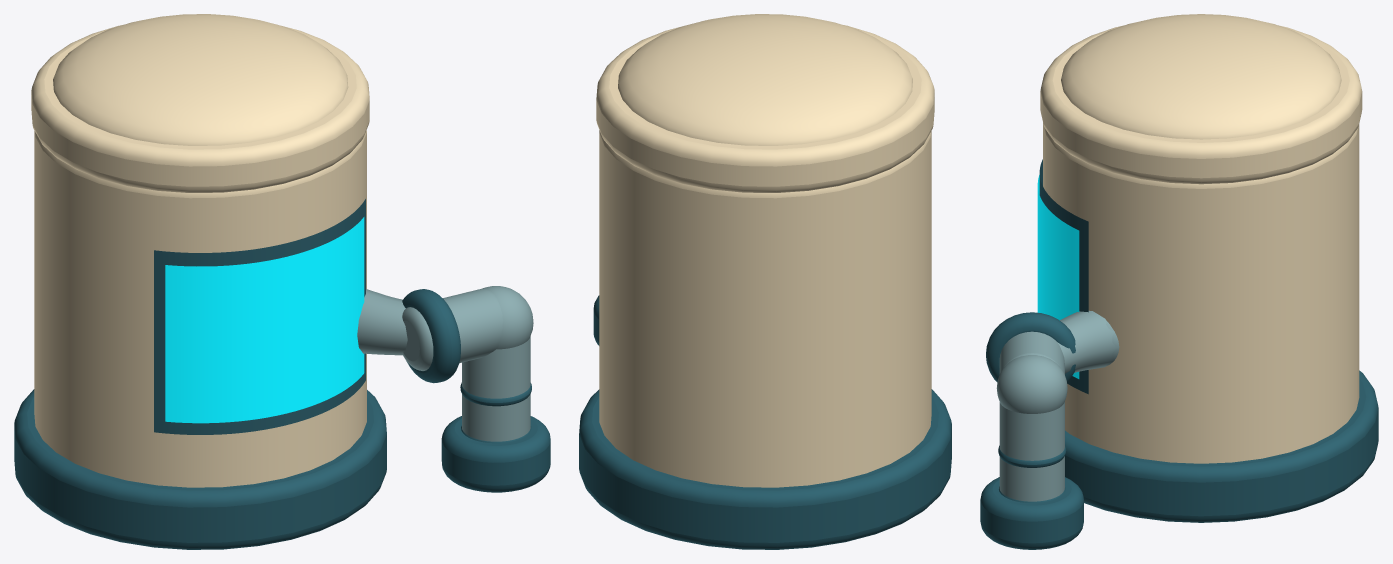
Rendered from refinery.glb.
The picture shows the model from 3 angles, left to right: view 1: azimuth 30°, elevation 25°; view 2: azimuth 150°, elevation 25°; view 3: azimuth 270°, elevation 25°; orthographic projection. The views are drawn at different scales.
Visible parts, largest first — view 1: Refinery tank, Window turquoise glass, Rounded refinery crown, Refinery base, Refinery lid, Window dark border, Pipe foot, Refinery pipe, Pipe top connector, Pipe collar, Tank connected outlet, Pipe elbow; view 2: Refinery tank, Rounded refinery crown, Refinery base, Refinery lid; view 3: Refinery tank, Rounded refinery crown, Refinery base, Refinery lid, Refinery pipe, Pipe foot, Window turquoise glass, Pipe elbow, Tank connected outlet, Pipe collar, Window dark border, Pipe top connector (+1 smaller).
Boxes of the visible parts, bbox=[...] form: Refinery tank: bbox=[34, 130, 366, 487]; Window turquoise glass: bbox=[165, 217, 364, 423]; Rounded refinery crown: bbox=[53, 14, 348, 145]; Refinery base: bbox=[14, 389, 386, 549]; Refinery lid: bbox=[31, 25, 369, 192]; Window dark border: bbox=[154, 199, 365, 434]; Pipe foot: bbox=[441, 416, 550, 492]; Refinery pipe: bbox=[462, 336, 530, 441]; Pipe top connector: bbox=[402, 288, 503, 370]; Pipe collar: bbox=[402, 289, 460, 383]; Tank connected outlet: bbox=[357, 289, 407, 355]; Pipe elbow: bbox=[481, 286, 533, 349]; Refinery tank: bbox=[599, 130, 931, 487]; Rounded refinery crown: bbox=[618, 14, 912, 145]; Refinery base: bbox=[579, 389, 951, 549]; Refinery lid: bbox=[596, 25, 934, 192]; Refinery tank: bbox=[1043, 123, 1359, 463]; Rounded refinery crown: bbox=[1061, 14, 1341, 139]; Refinery base: bbox=[1065, 370, 1378, 522]; Refinery lid: bbox=[1040, 25, 1362, 184]; Refinery pipe: bbox=[999, 402, 1064, 501]; Pipe foot: bbox=[980, 477, 1083, 549]; Window turquoise glass: bbox=[1037, 175, 1079, 378]; Pipe elbow: bbox=[996, 355, 1067, 413]; Tank connected outlet: bbox=[1057, 310, 1118, 373]; Pipe collar: bbox=[986, 312, 1075, 382]; Window dark border: bbox=[1039, 159, 1088, 394]; Pipe top connector: bbox=[999, 331, 1064, 374].
Size of the model in its own units: 1.72 by 1.68 by 1.5.
